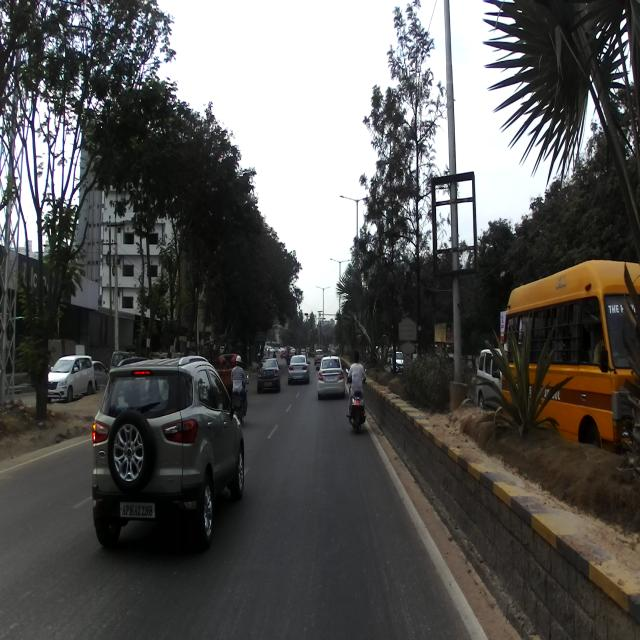car ahead at: (93, 360, 249, 546)
